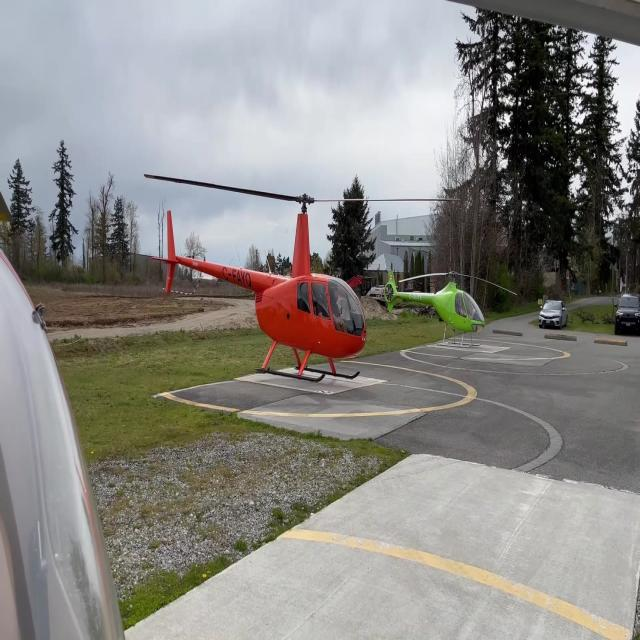CIV_HELO: (149, 192, 370, 385)
